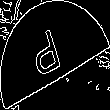P_SE: (36, 24, 74, 86)
